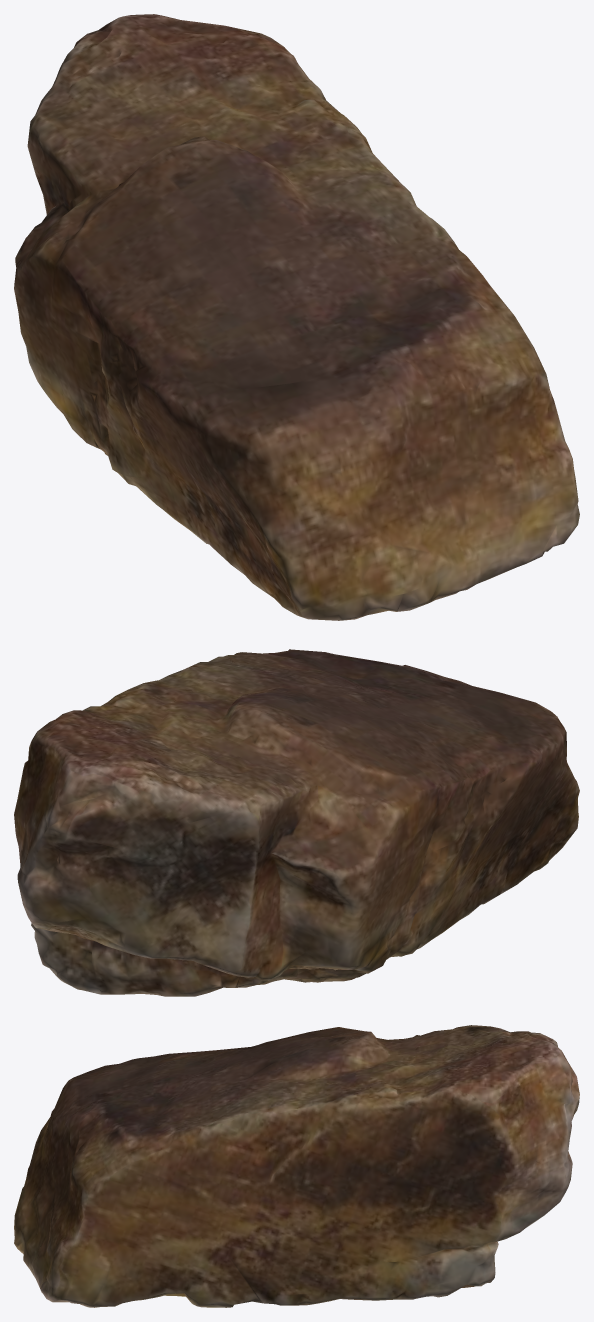
Rendered from rock_07_wood.glb.
The picture shows the model from 3 angles, top to bottom: view 1: azimuth 30°, elevation 25°; view 2: azimuth 150°, elevation 25°; view 3: azimuth 270°, elevation 25°; orthographic projection. The views are drawn at different scales.
Parts seen in each view (by area): view 1: rock_07; view 2: rock_07; view 3: rock_07.
Boxes of the visible parts, <box> form: rock_07: <box>14,14,579,620</box>; rock_07: <box>14,649,579,996</box>; rock_07: <box>14,1025,579,1307</box>.
Bounding box in the file's own units: 0.1686 × 0.1437 × 0.3199.
Materials: 1 (1 with a texture image).
